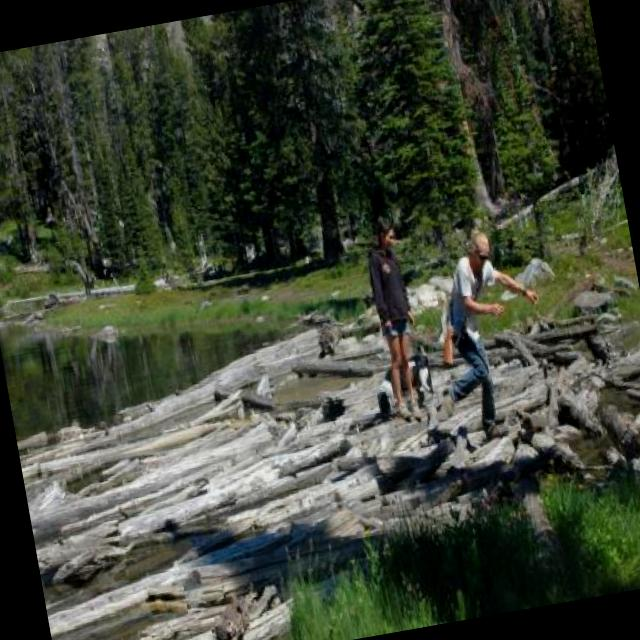Person: (418, 228, 561, 447), (354, 210, 438, 414)
